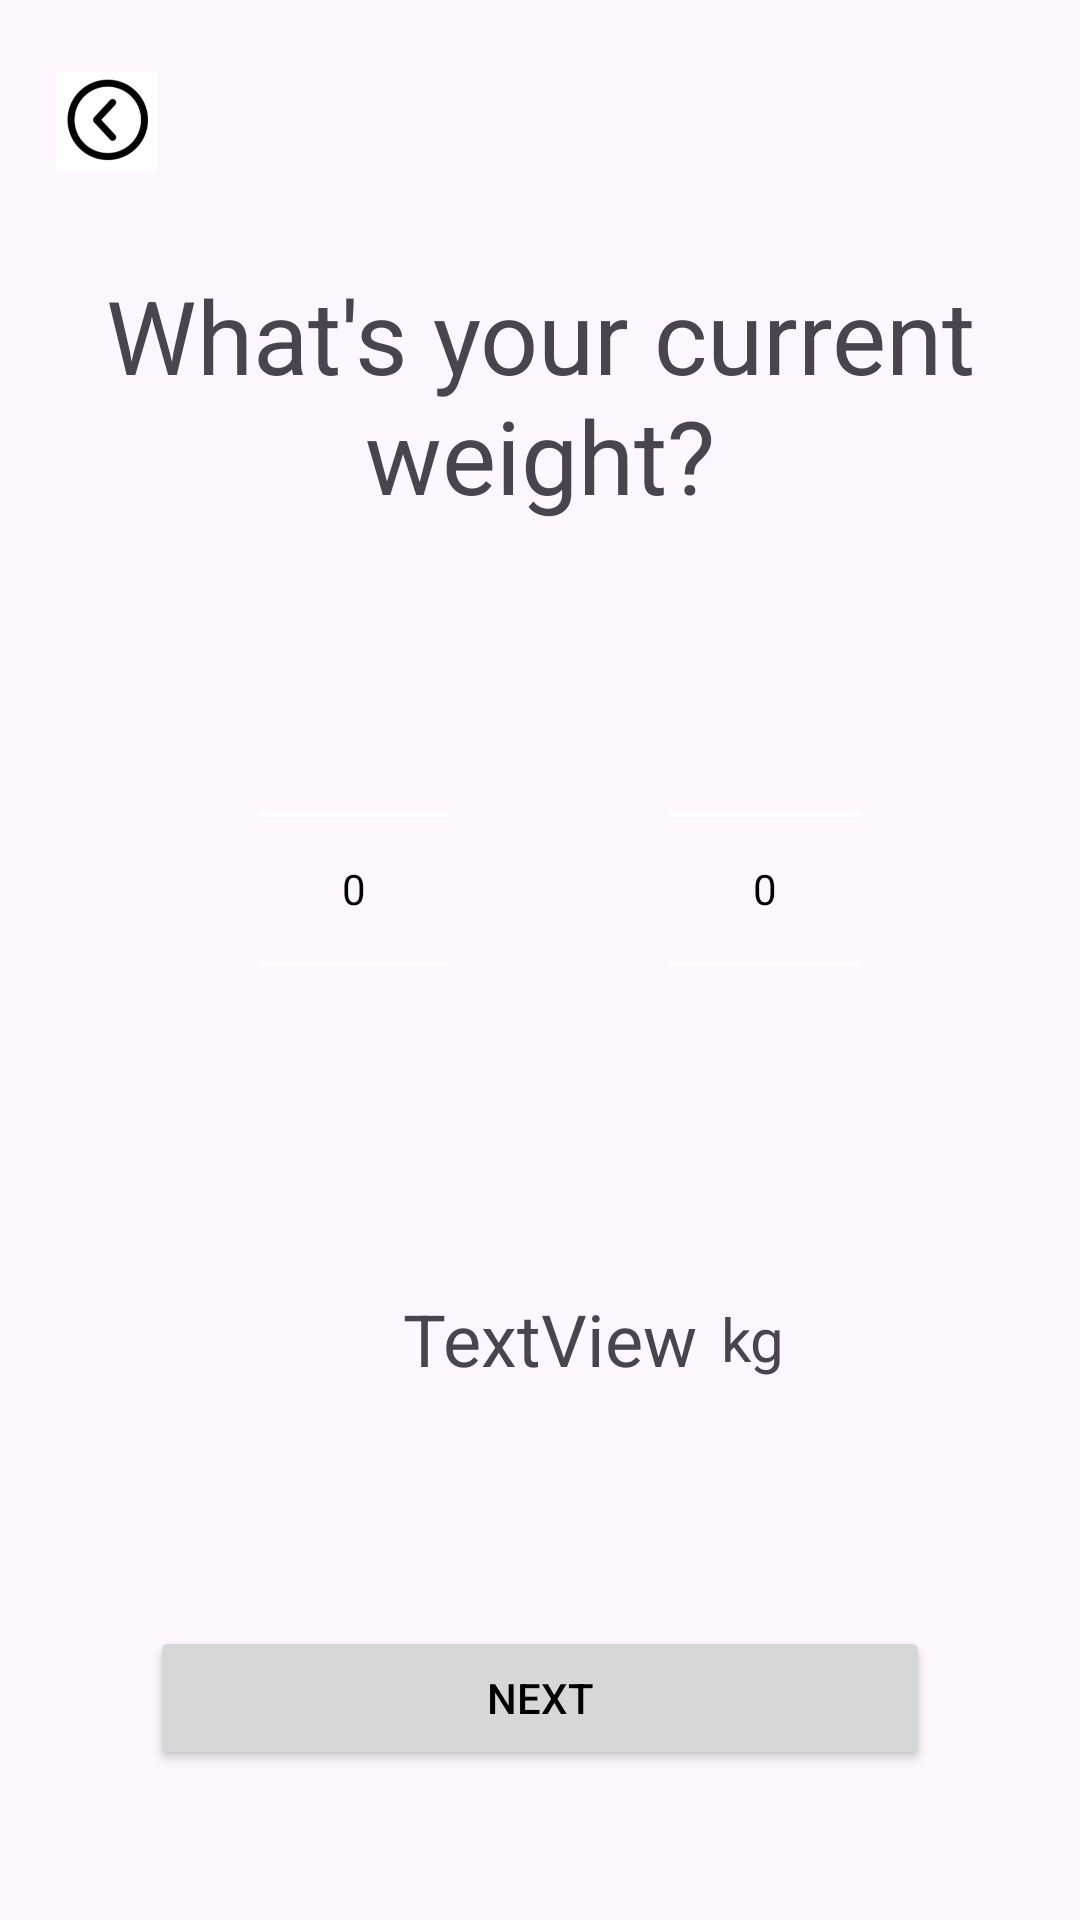

Named icons in this screenshot (1080 x 1920) and their bounding boxes, box(x1, y1, x2, y2):
back: box(67, 79, 148, 160)
